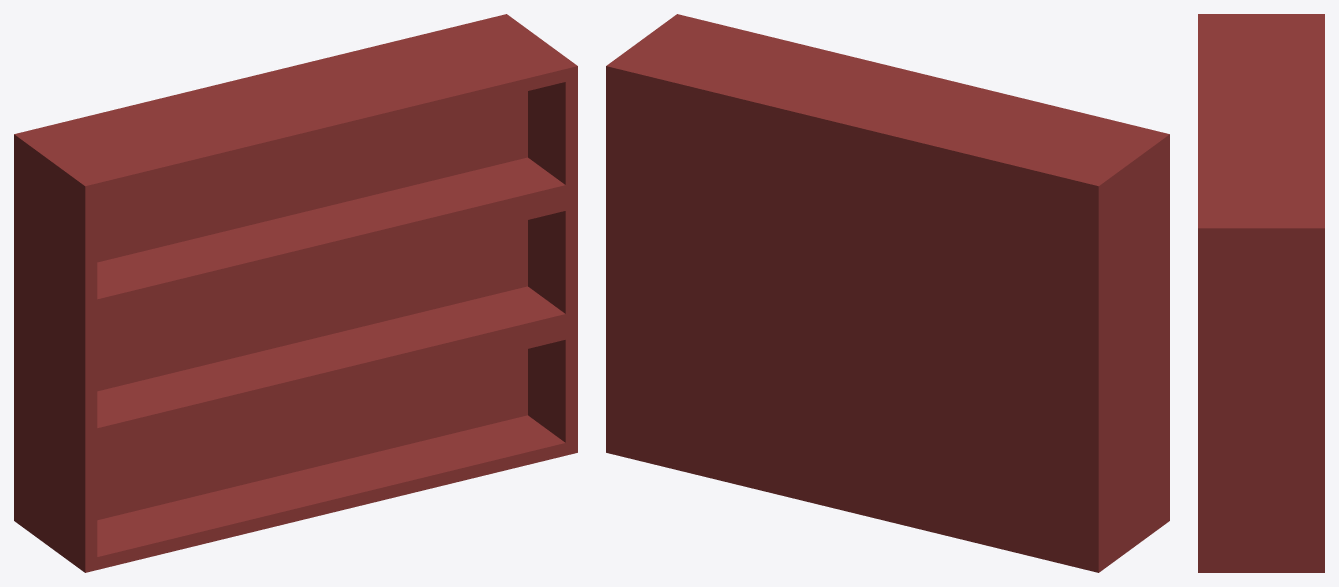
File: bookshelf1x4.fbx
3 views of the same model, side by side, from view 1: azimuth 30°, elevation 25°; view 2: azimuth 150°, elevation 25°; view 3: azimuth 270°, elevation 25° (orthographic). The views are drawn at different scales.
Parts seen in each view (by area): view 1: Bookshelf1x4; view 2: Bookshelf1x4; view 3: Bookshelf1x4.
Boxes of the visible parts, x1,y1,x2,y2 form: Bookshelf1x4: [14, 14, 577, 572]; Bookshelf1x4: [606, 14, 1169, 572]; Bookshelf1x4: [1198, 14, 1324, 572].
Size of the model in its own units: 400 by 300 by 100.
